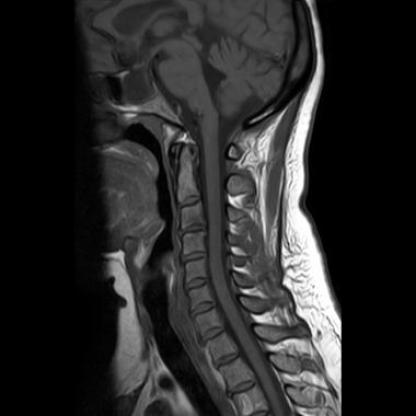Disc Bulgerotation: (177, 249, 208, 264), (179, 222, 207, 238)
